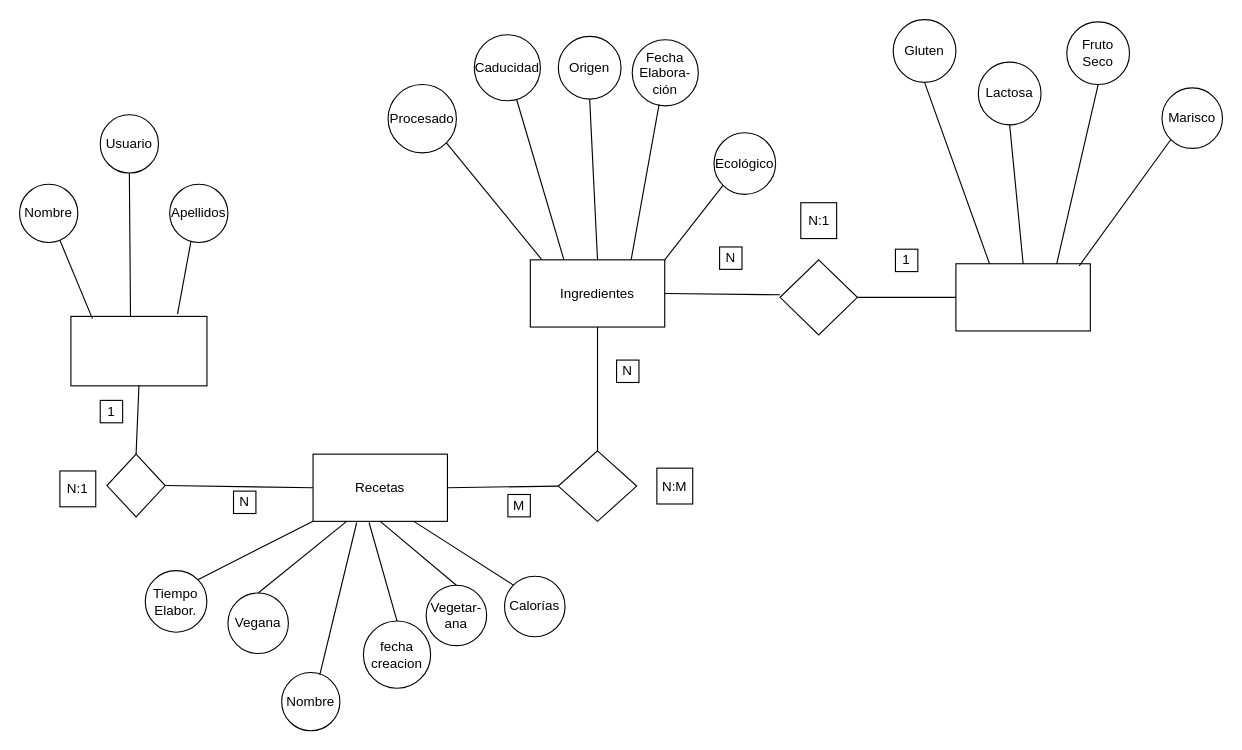
Some shapes in this 1242 by 750 pixel diagram are drawn without their labels. The shapes that lost their labels are listed below. From the top down, each one's centre as x and y in pixels, then its label:
point 818,297: Puede Contener
point 1022,297: Alérgenos
point 138,350: Autor
point 135,485: Hace
point 597,485: Contienen
